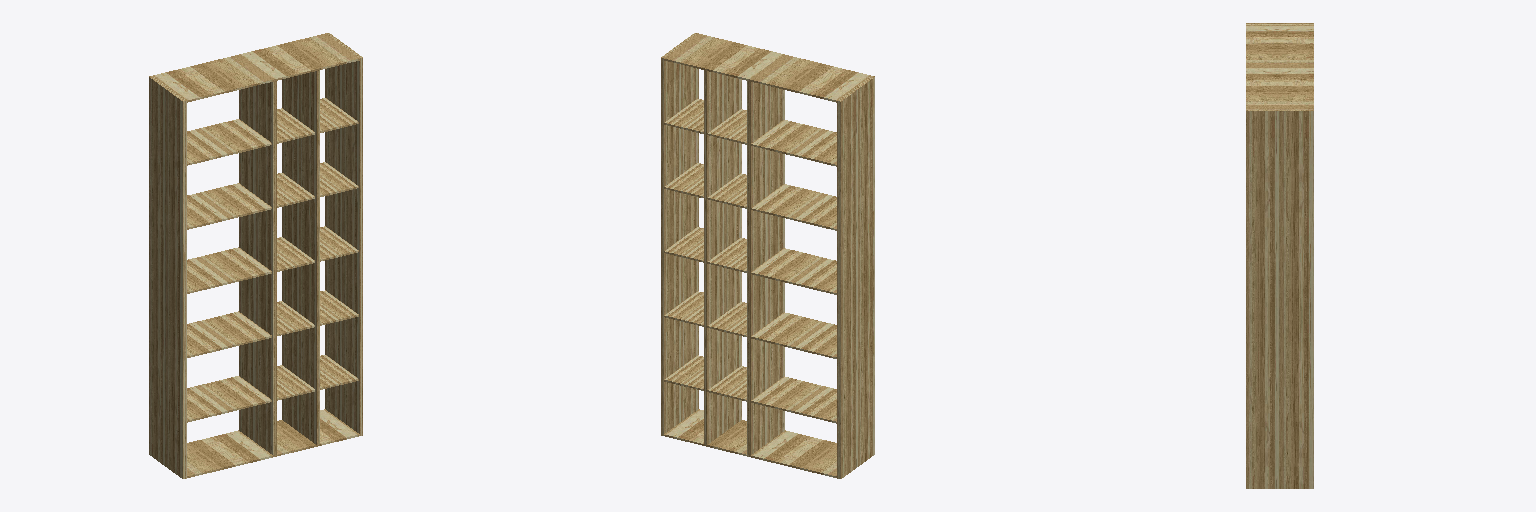
The picture shows the model from 3 angles: view 1: azimuth 30°, elevation 25°; view 2: azimuth 150°, elevation 25°; view 3: azimuth 270°, elevation 25°; orthographic projection.
Visible parts, largest first — view 1: line0, line3, line1, line2, top, bottom, board02, board03, board01, board04, board00, board21 (+9 smaller); view 2: line0, line1, line3, line2, top, bottom, board04, board02, board01, board00, board03, board20 (+9 smaller); view 3: line3, top.
Part boxes in pixels (left/top/right/bottom): line0: left=149, top=76, right=186, bottom=478; line3: left=325, top=33, right=362, bottom=435; line1: left=239, top=81, right=276, bottom=454; line2: left=282, top=70, right=319, bottom=444; top: left=153, top=33, right=359, bottom=102; bottom: left=187, top=409, right=359, bottom=477; board02: left=187, top=247, right=271, bottom=293; board03: left=187, top=183, right=271, bottom=229; board01: left=187, top=311, right=271, bottom=357; board04: left=187, top=119, right=271, bottom=165; board00: left=187, top=376, right=271, bottom=422; board21: left=320, top=290, right=358, bottom=325; line0: left=837, top=76, right=874, bottom=478; line1: left=747, top=81, right=784, bottom=454; line3: left=661, top=33, right=698, bottom=435; line2: left=704, top=70, right=741, bottom=444; top: left=664, top=33, right=870, bottom=102; bottom: left=664, top=409, right=836, bottom=477; board04: left=751, top=120, right=836, bottom=166; board02: left=751, top=248, right=836, bottom=294; board01: left=751, top=312, right=836, bottom=358; board00: left=751, top=376, right=836, bottom=423; board03: left=751, top=184, right=836, bottom=230; board20: left=664, top=355, right=703, bottom=390; line3: left=1246, top=109, right=1313, bottom=488; top: left=1246, top=25, right=1313, bottom=108.
Size of the model in its own units: 50 by 100 by 16.5.
1 materials, 1 textured.